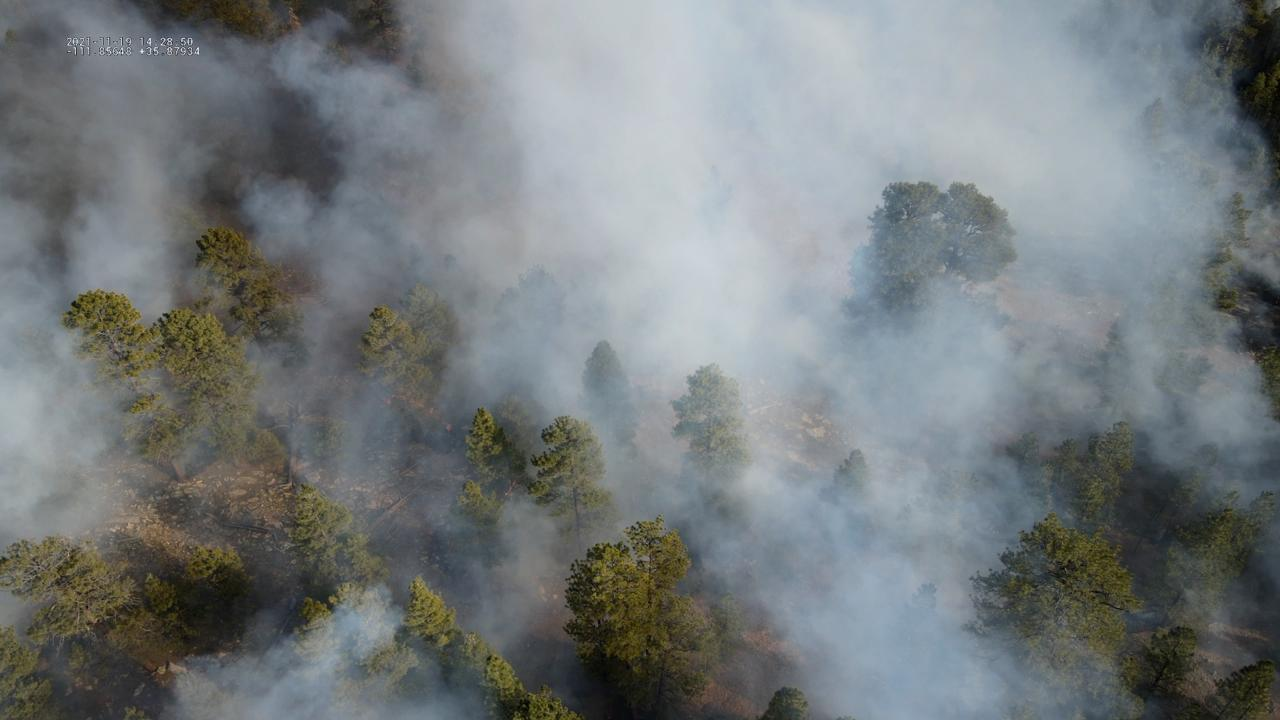fire: (381, 392, 425, 409), (426, 407, 435, 418), (445, 423, 452, 433)
smoke: (0, 0, 1280, 720)
